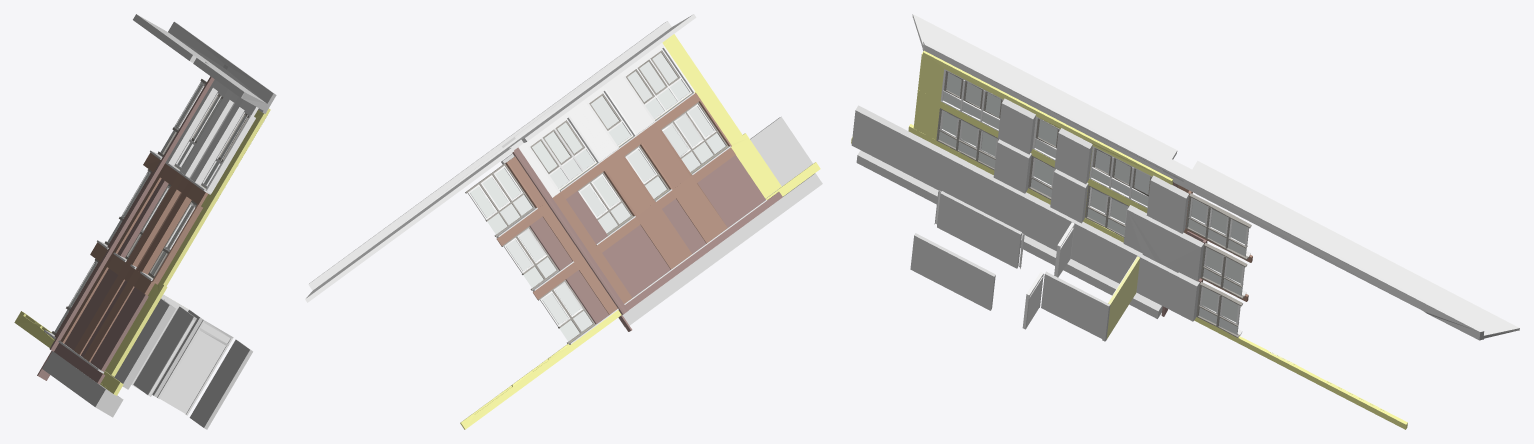
3 views of the same model, side by side, from view 1: azimuth 30°, elevation 25°; view 2: azimuth 150°, elevation 25°; view 3: azimuth 270°, elevation 25° (orthographic). The views are drawn at different scales.
Parts seen in each view (by area): view 1: mesh; view 2: mesh; view 3: mesh.
Part boxes in pixels (box(x1,y1,x2,y2)): mesh: box(14, 14, 276, 429); mesh: box(305, 14, 822, 429); mesh: box(851, 14, 1519, 429).
Size of the model in its own units: 15.09 by 14.86 by 23.25.
